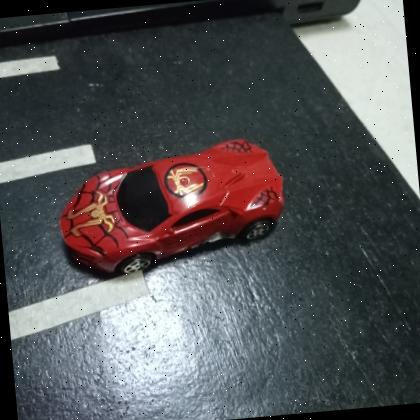Car: (51, 134, 291, 282)
